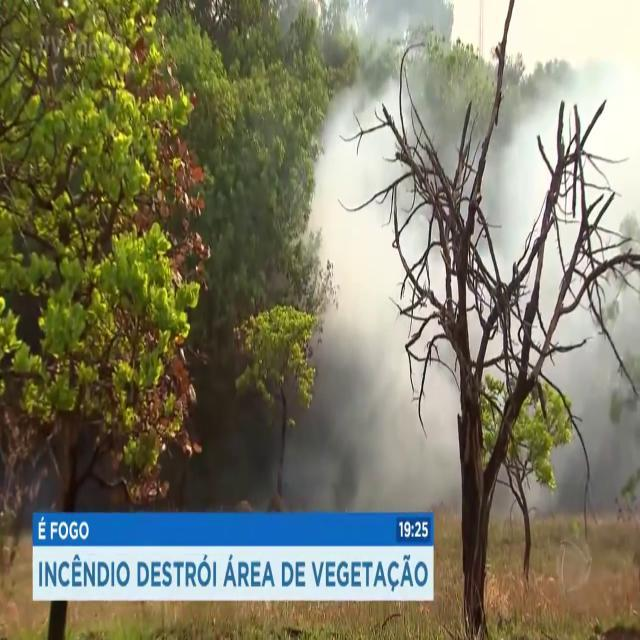Smoke: (299, 0, 640, 502)
